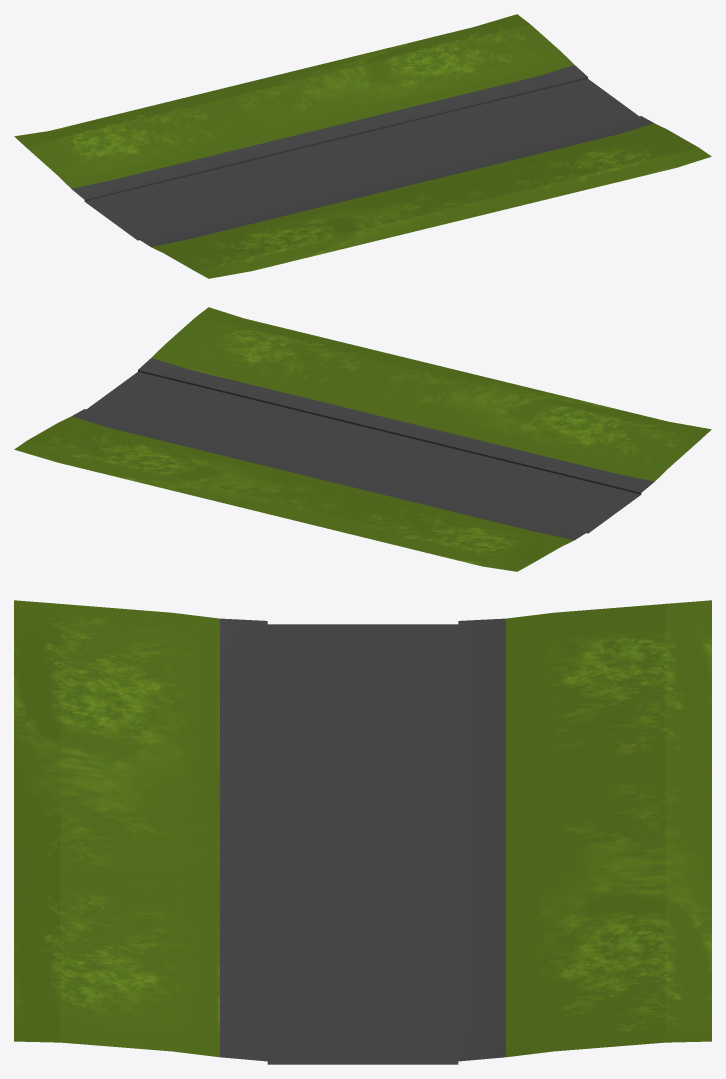
File: DrivingMiniExt.obj
3 views of the same model, one above another, from view 1: azimuth 30°, elevation 25°; view 2: azimuth 150°, elevation 25°; view 3: azimuth 270°, elevation 25° (orthographic). The views are drawn at different scales.
Visible parts, largest first — view 1: DrivingMiniExt:RoadKillOut; view 2: DrivingMiniExt:RoadKillOut; view 3: DrivingMiniExt:RoadKillOut.
Boxes of the visible parts, left/top/right/bottom form: DrivingMiniExt:RoadKillOut: left=14, top=14, right=711, bottom=278; DrivingMiniExt:RoadKillOut: left=14, top=307, right=711, bottom=571; DrivingMiniExt:RoadKillOut: left=14, top=600, right=711, bottom=1064.
Bounding box in the file's own units: 84953 × 2167 × 56885.
